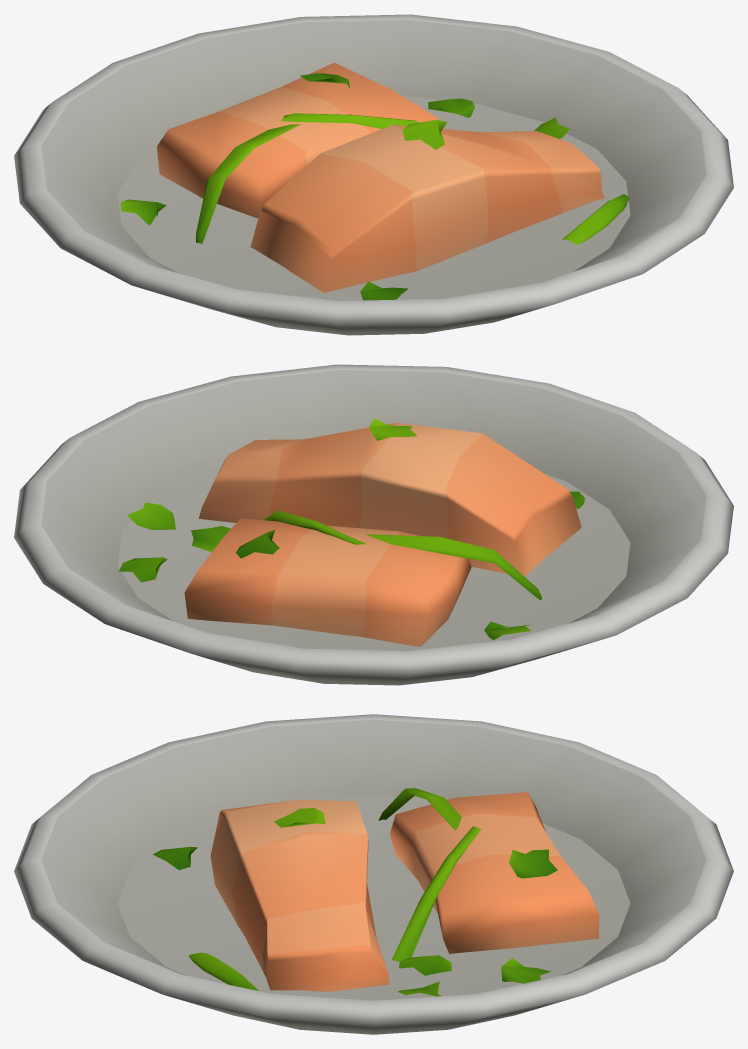
The model's file is salmon.glb.
3 renders of one model, top to bottom at view 1: azimuth 30°, elevation 25°; view 2: azimuth 150°, elevation 25°; view 3: azimuth 270°, elevation 25°, orthographic.
Visible parts, largest first — view 1: SM_Dish_A.008, SM_Food_Fish_02; view 2: SM_Dish_A.008, SM_Food_Fish_02; view 3: SM_Dish_A.008, SM_Food_Fish_02.
Boxes of the visible parts, bbox=[...] form: SM_Dish_A.008: bbox=[14, 14, 733, 335]; SM_Food_Fish_02: bbox=[120, 62, 629, 300]; SM_Dish_A.008: bbox=[14, 364, 733, 685]; SM_Food_Fish_02: bbox=[119, 418, 584, 646]; SM_Dish_A.008: bbox=[14, 714, 733, 1034]; SM_Food_Fish_02: bbox=[152, 788, 599, 996].
Bounding box in the file's own units: 0.7473 × 0.148 × 0.7473.
1 material, 1 textured.
